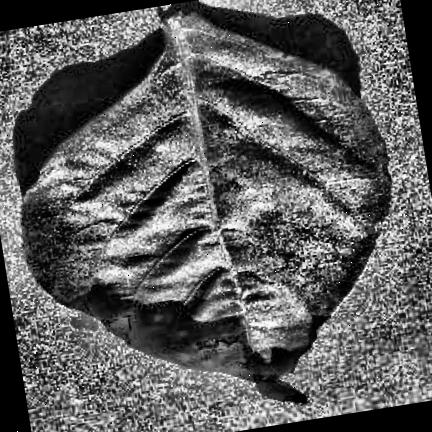leaf: (24, 11, 388, 402)
